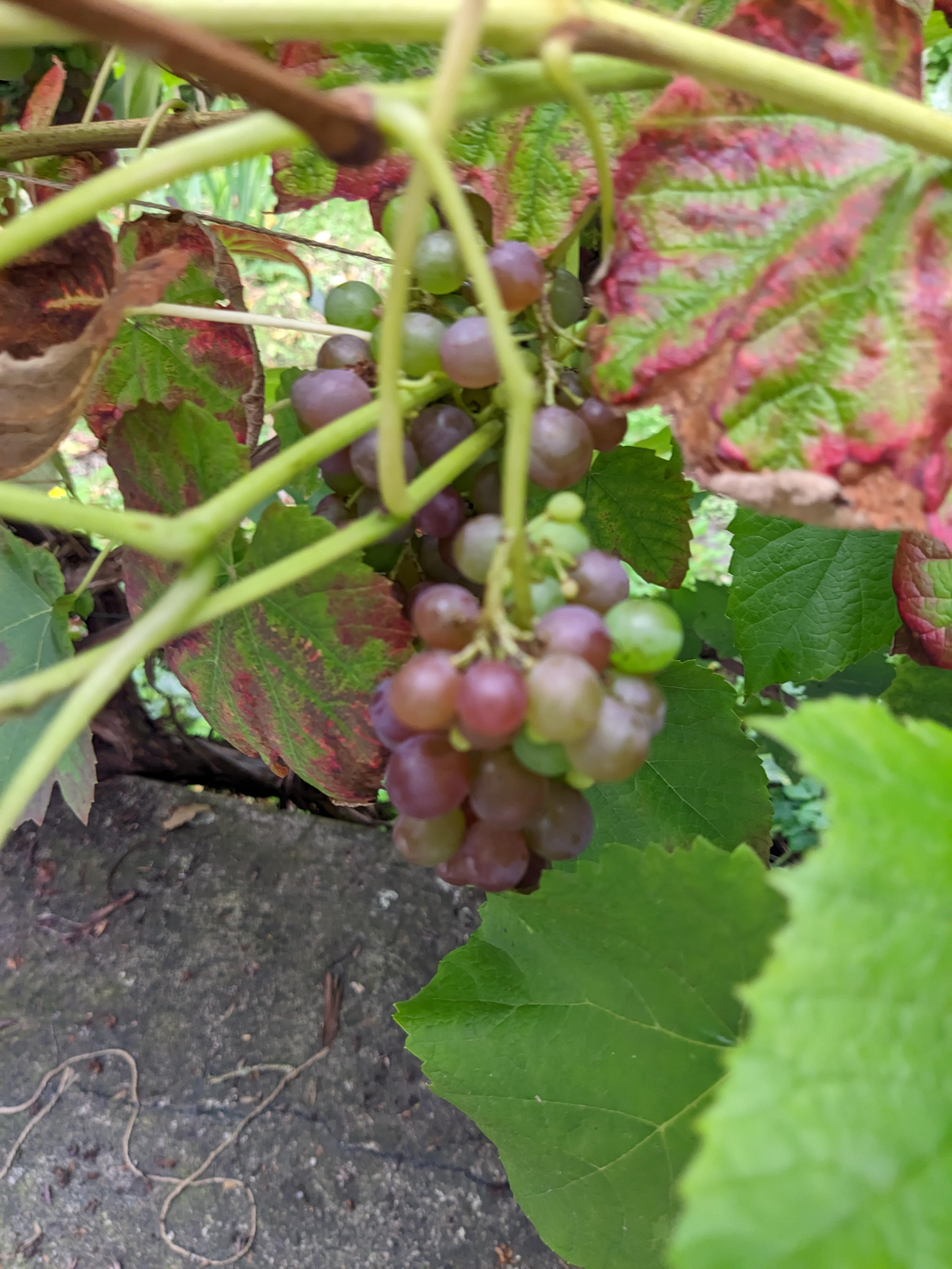Grape Unripe: (376, 493, 689, 892), (291, 179, 640, 533)
